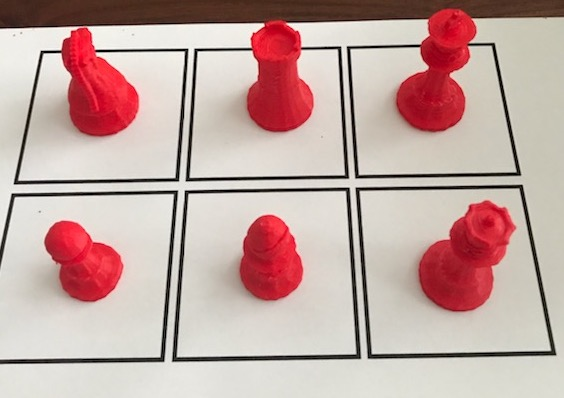Red Bishop: (223, 210, 314, 309)
Red Castle: (228, 17, 325, 136)
Red King: (384, 5, 491, 138)
Red Knight: (49, 22, 152, 142)
Red Pawn: (37, 212, 127, 313)
Red Queen: (405, 194, 520, 319)
